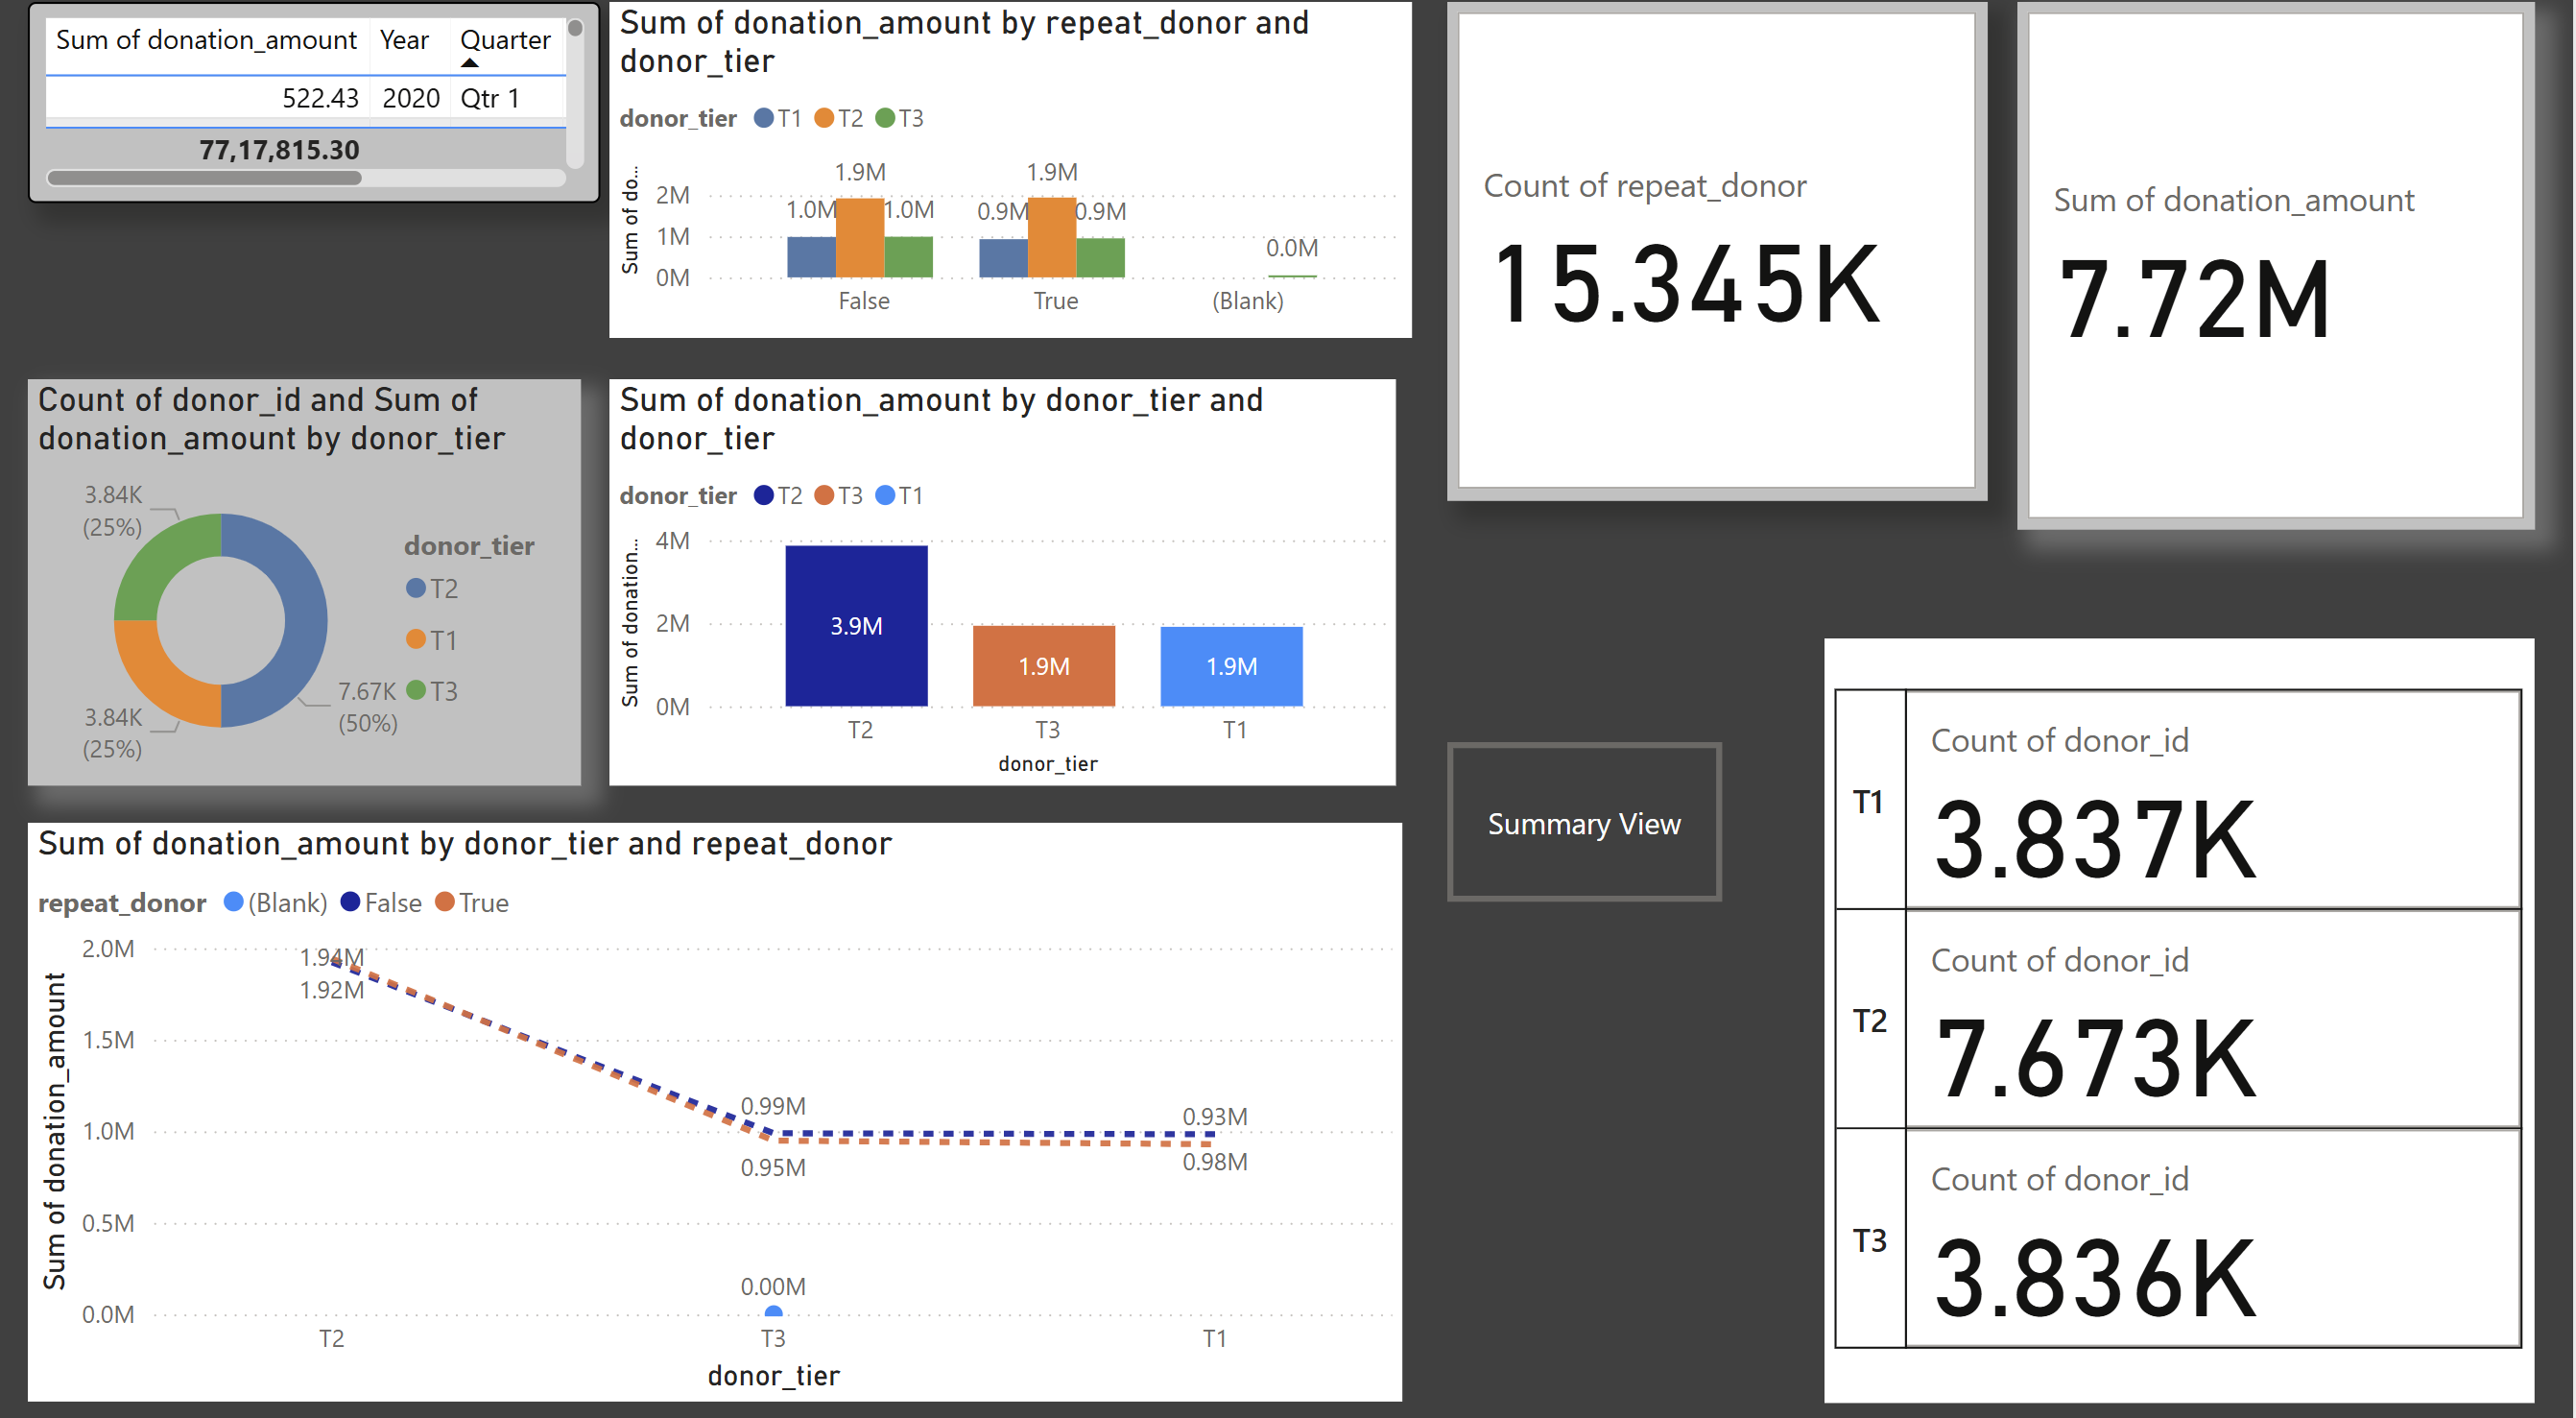

The page's visual inventory and layout, read from the dashboard file:
{"tool":"powerbi","page":{"name":"Monthly Donation Trend (Line Chart)","canvas":[1280,720],"ordinal":1},"visuals":[{"type":"lineChart","fields":{"Category":["cleaned_donor_data_for_powerbi.donor_tier"],"Y":["Sum(cleaned_donor_data_for_powerbi.donation_amount)"],"Series":["cleaned_donor_data_for_powerbi.repeat_donor"]},"box":[14.3,419.6,683.4,287.7],"z":0},{"type":"tableEx","fields":{"Values":["Sum(cleaned_donor_data_for_powerbi.donation_amount)","cleaned_donor_data_for_powerbi.donation_date.Variation.Date Hierarchy.Year","cleaned_donor_data_for_powerbi.donation_date.Variation.Date Hierarchy.Quarter","cleaned_donor_data_for_powerbi.donation_date.Variation.Date Hierarchy.Month","cleaned_donor_data_for_powerbi.donation_date.Variation.Date Hierarchy.Day","cleaned_donor_data_for_powerbi.donor_city"]},"box":[14.3,11.1,284.5,100.1],"z":1000},{"type":"clusteredColumnChart","fields":{"Category":["cleaned_donor_data_for_powerbi.repeat_donor"],"Y":["Sum(cleaned_donor_data_for_powerbi.donation_amount)"],"Series":["cleaned_donor_data_for_powerbi.donor_tier"]},"box":[303.6,11.1,398.9,166.9],"z":2000},{"type":"donutChart","fields":{"Category":["cleaned_donor_data_for_powerbi.donor_tier"],"Y":["CountNonNull(cleaned_donor_data_for_powerbi.donor_id)"]},"box":[14.3,198.7,275,201.9],"z":3000},{"type":"columnChart","fields":{"Category":["cleaned_donor_data_for_powerbi.donor_tier"],"Y":["Sum(cleaned_donor_data_for_powerbi.donation_amount)"],"Series":["cleaned_donor_data_for_powerbi.donor_tier"]},"box":[303.6,198.7,391,201.9],"z":4000},{"type":"cardVisual","fields":{"Data":["CountNonNull(cleaned_donor_data_for_powerbi.repeat_donor)"]},"box":[720,11.1,268.6,247.9],"z":5000},{"type":"cardVisual","fields":{"Data":["Sum(cleaned_donor_data_for_powerbi.donation_amount)"]},"box":[1002.9,11.1,257.5,262.3],"z":6000},{"type":"cardVisual","fields":{"Data":["CountNonNull(cleaned_donor_data_for_powerbi.donor_id)"],"Rows":["cleaned_donor_data_for_powerbi.donor_tier"]},"box":[907.5,327.4,352.8,379.9],"z":7000},{"type":"actionButton","box":[719.5,379.1,136.6,79.5],"z":8000}]}

Visuals, with their boxes in screenshot pixels (x1, y1, x2, y2), scaled from the page's 1280x720 canvas onto the 2576x1418 screenshot:
lineChart - cleaned_donor_data_for_powerbi.donor_tier x Sum(cleaned_donor_data_for_powerbi.donation_amount): [29, 827, 1404, 1393]
tableEx - Sum(cleaned_donor_data_for_powerbi.donation_amount) x cleaned_donor_data_for_powerbi.donation_date.Variation.Date Hierarchy.Year: [29, 22, 602, 219]
clusteredColumnChart - cleaned_donor_data_for_powerbi.repeat_donor x Sum(cleaned_donor_data_for_powerbi.donation_amount): [611, 22, 1414, 350]
donutChart - cleaned_donor_data_for_powerbi.donor_tier x CountNonNull(cleaned_donor_data_for_powerbi.donor_id): [29, 392, 583, 789]
columnChart - cleaned_donor_data_for_powerbi.donor_tier x Sum(cleaned_donor_data_for_powerbi.donation_amount): [611, 392, 1397, 789]
cardVisual - CountNonNull(cleaned_donor_data_for_powerbi.repeat_donor): [1449, 22, 1990, 510]
cardVisual - Sum(cleaned_donor_data_for_powerbi.donation_amount): [2018, 22, 2537, 539]
cardVisual - CountNonNull(cleaned_donor_data_for_powerbi.donor_id) x cleaned_donor_data_for_powerbi.donor_tier: [1826, 645, 2537, 1393]
actionButton: [1448, 747, 1723, 903]
